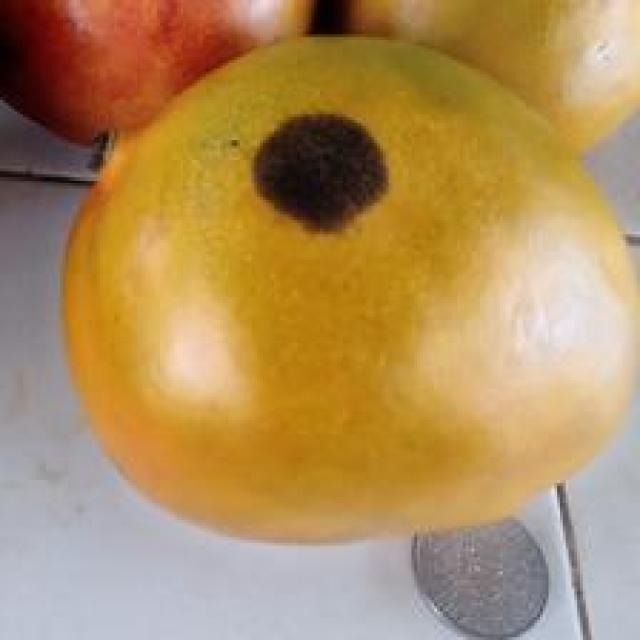Mango: (64, 36, 640, 536), (0, 0, 321, 150), (319, 0, 640, 150)
